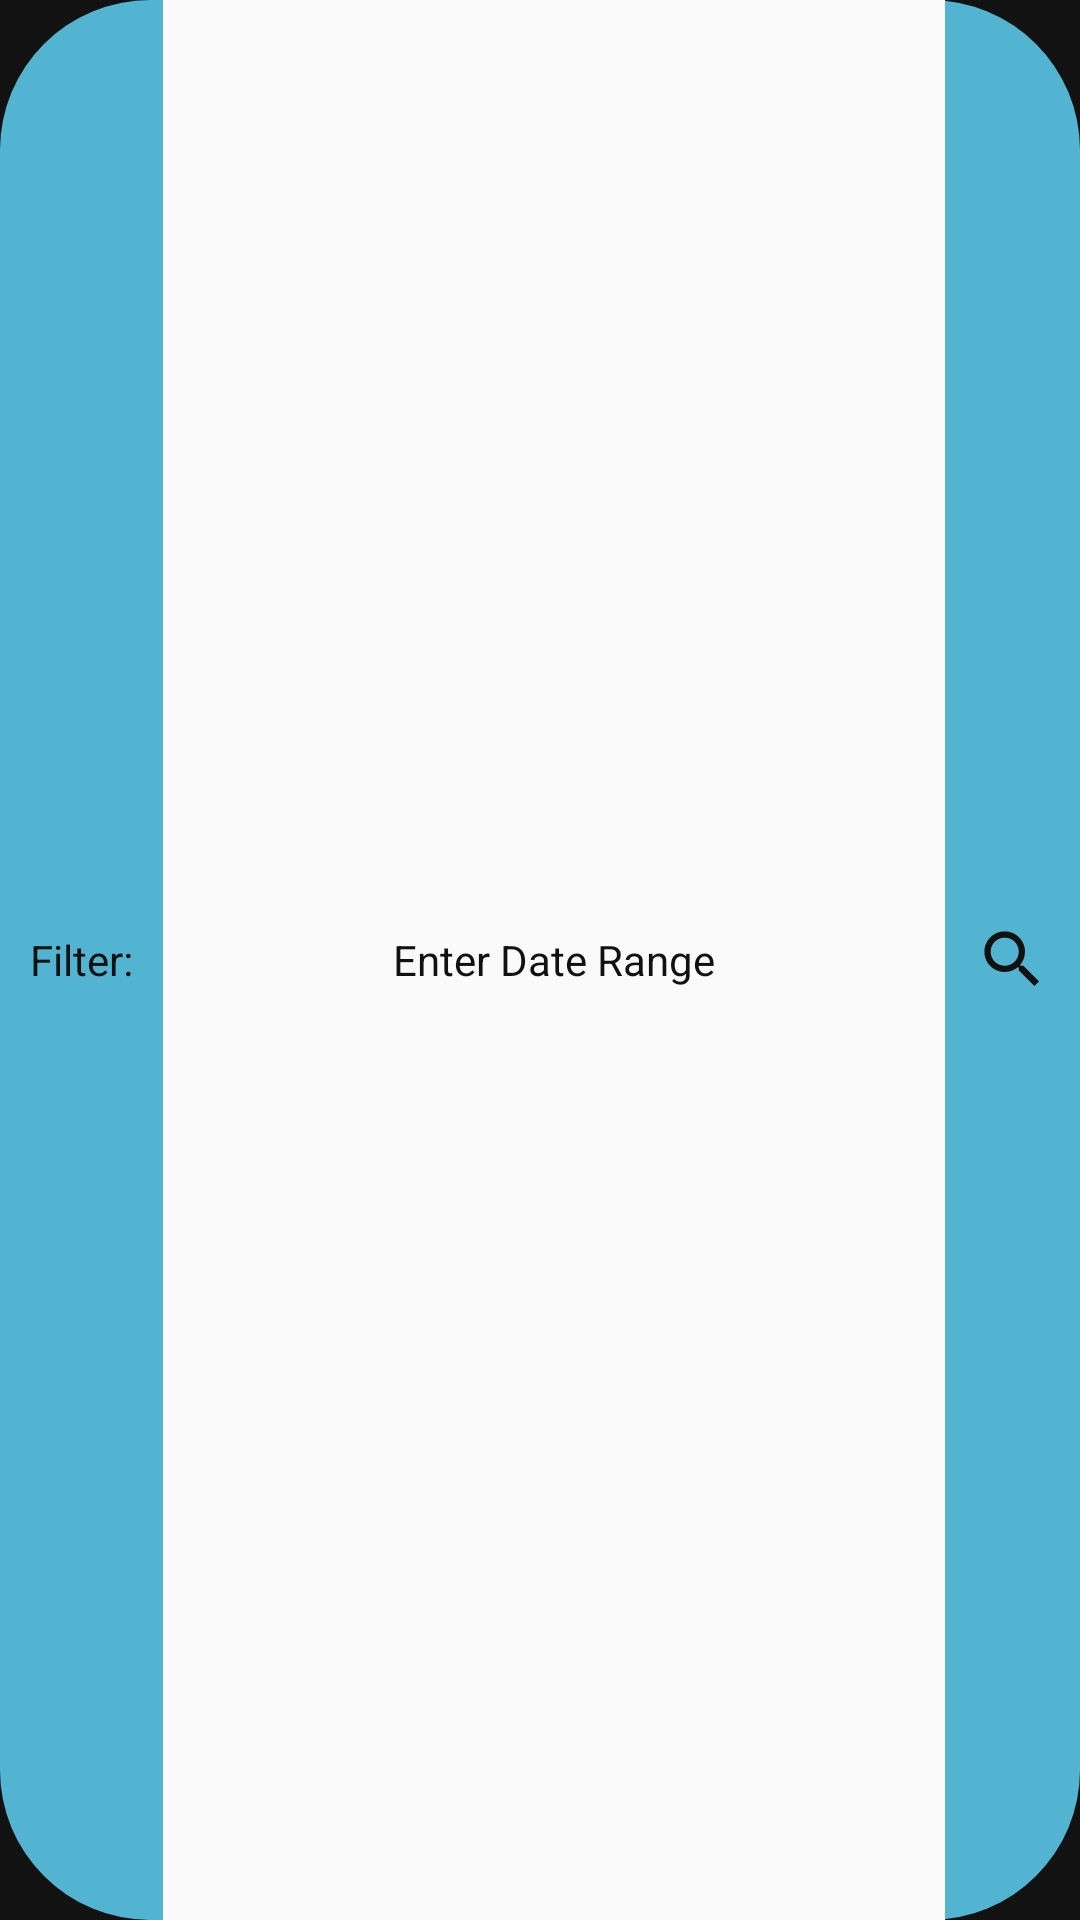

Screen size 1080w x 1920h. Icon name, then its center in pixels as (x=x, y=y):
Search: (x=1011, y=958)
